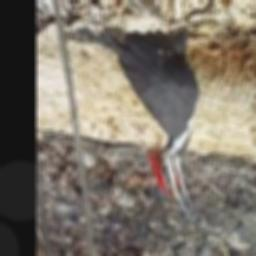Woodpecker: (77, 26, 199, 216)
